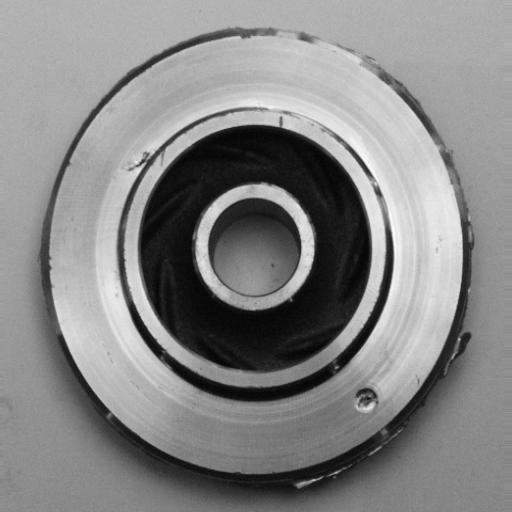casting_with_burr: (39, 26, 476, 494)
crack: (114, 141, 176, 182)
pit: (343, 383, 387, 419)
scratch: (255, 100, 333, 130)
